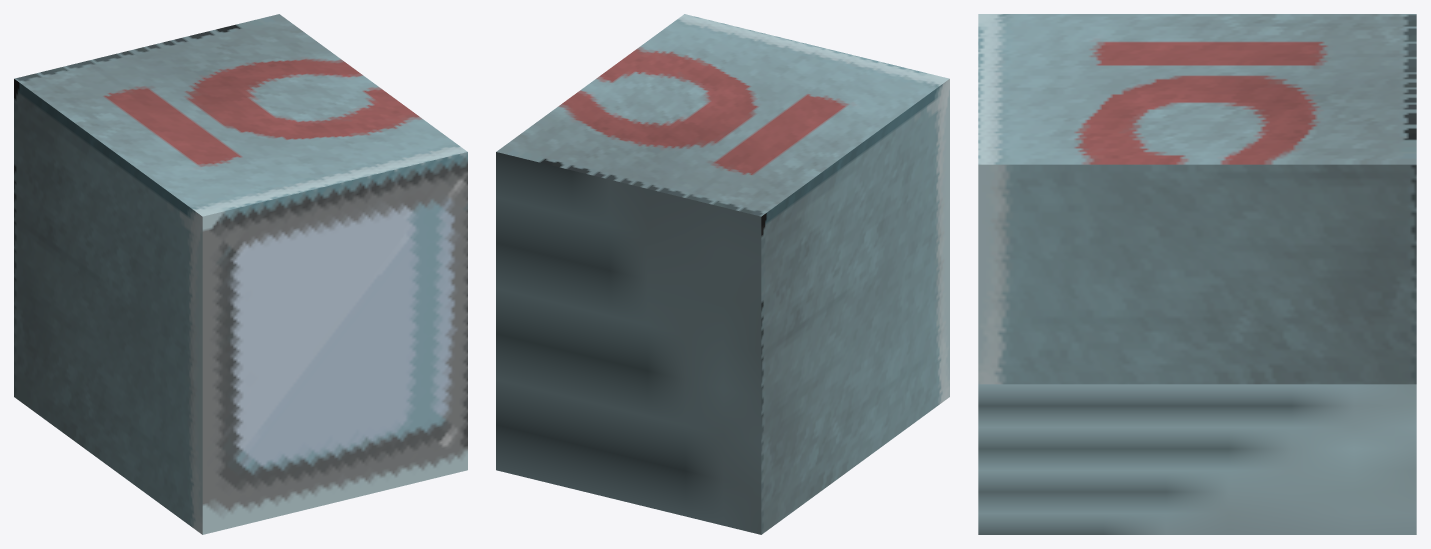
The model's file is pz_g016_popsicle_freezer_part1.obj.
3 renders of one model, left to right at view 1: azimuth 30°, elevation 25°; view 2: azimuth 150°, elevation 25°; view 3: azimuth 270°, elevation 25°, orthographic. The views are drawn at different scales.
Visible parts, largest first — view 1: native_component_0_z+, native_component_0_x-, native_component_0_y+; view 2: native_component_0_z-, native_component_0_x-, native_component_0_y+; view 3: native_component_0_x-, native_component_0_y-, native_component_0_y+.
Boxes of the visible parts, x1,y1,x2,y2 form: native_component_0_z+: (202,152,467,534); native_component_0_x-: (14,79,202,534); native_component_0_y+: (14,14,467,216); native_component_0_z-: (496,152,761,534); native_component_0_x-: (761,79,949,534); native_component_0_y+: (496,14,949,216); native_component_0_x-: (978,164,1416,384); native_component_0_y-: (978,384,1416,534); native_component_0_y+: (978,14,1416,164).
Size of the model in its own units: 0.6297 by 0.7222 by 0.7749.
1 material, 1 textured.
